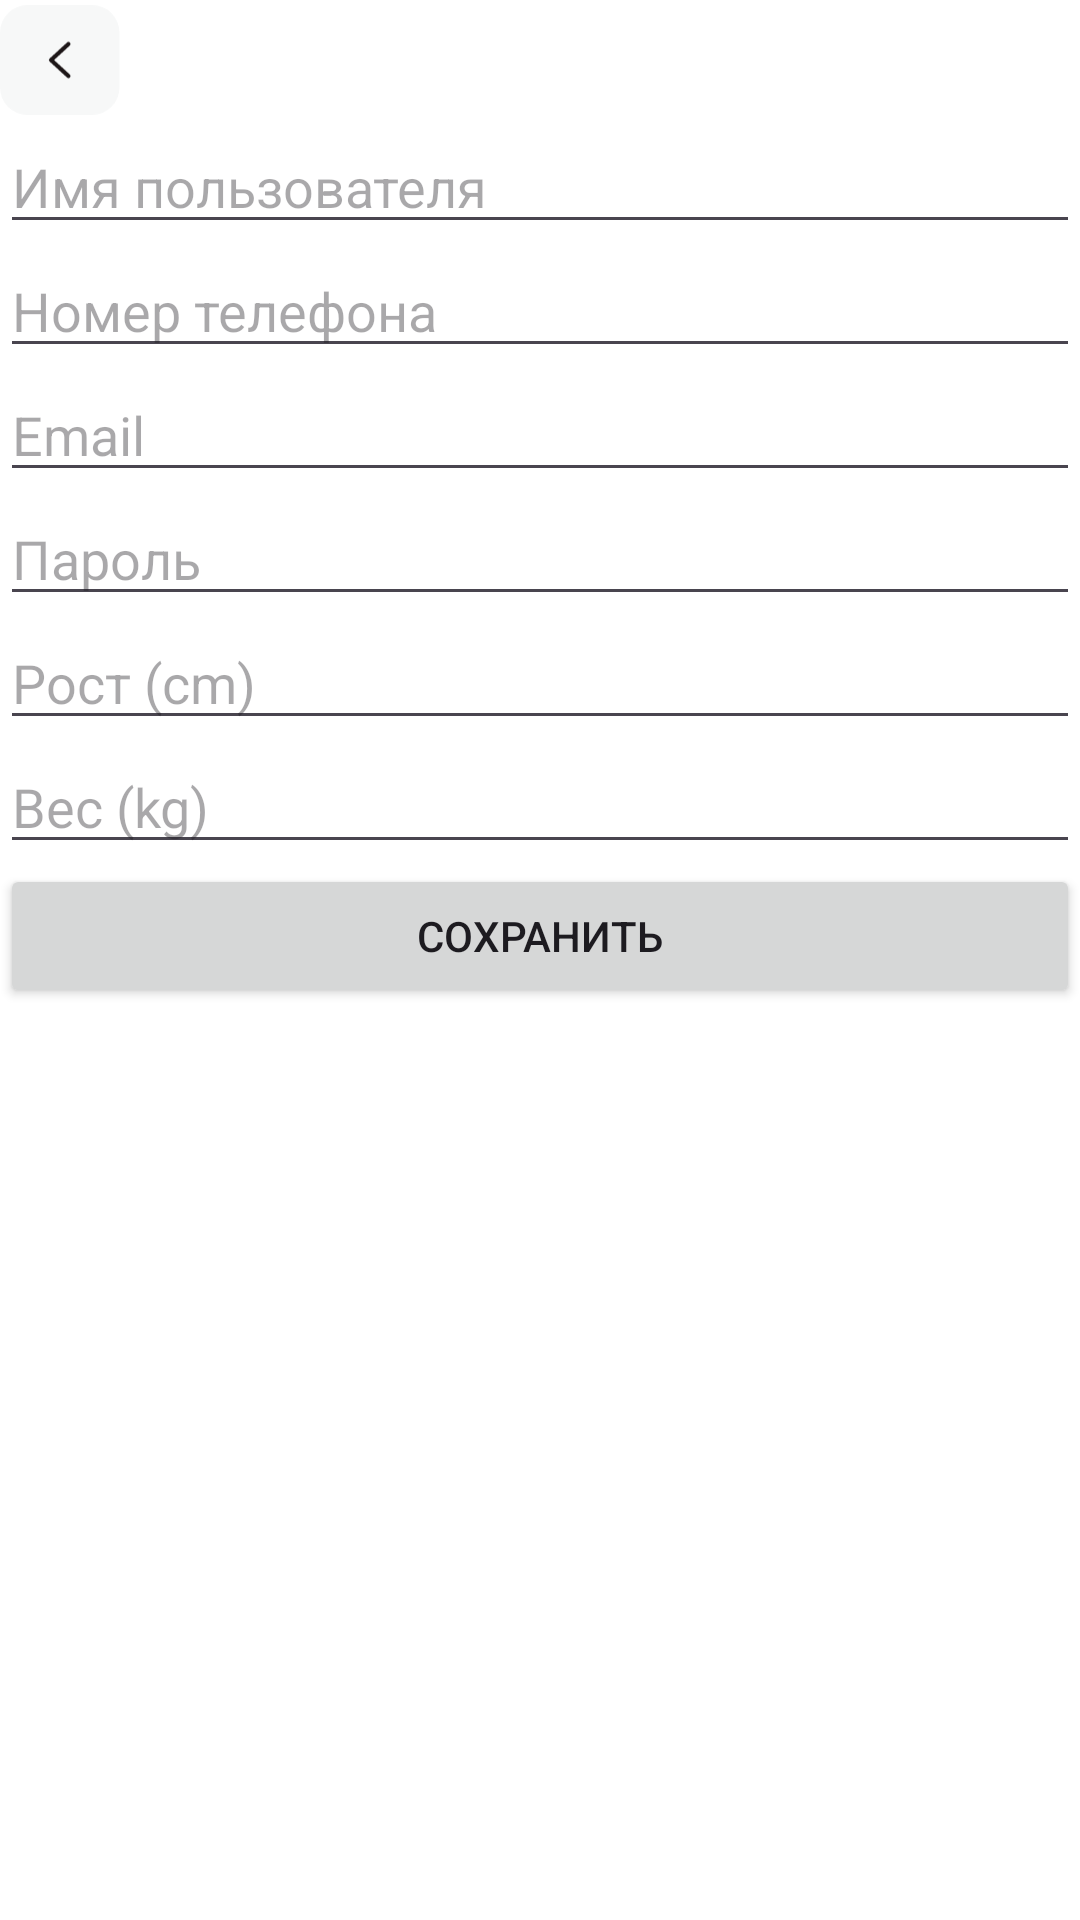

Where to tap for icons on this 1080×1920 app screen, as (x,y):
back: (60,60)
